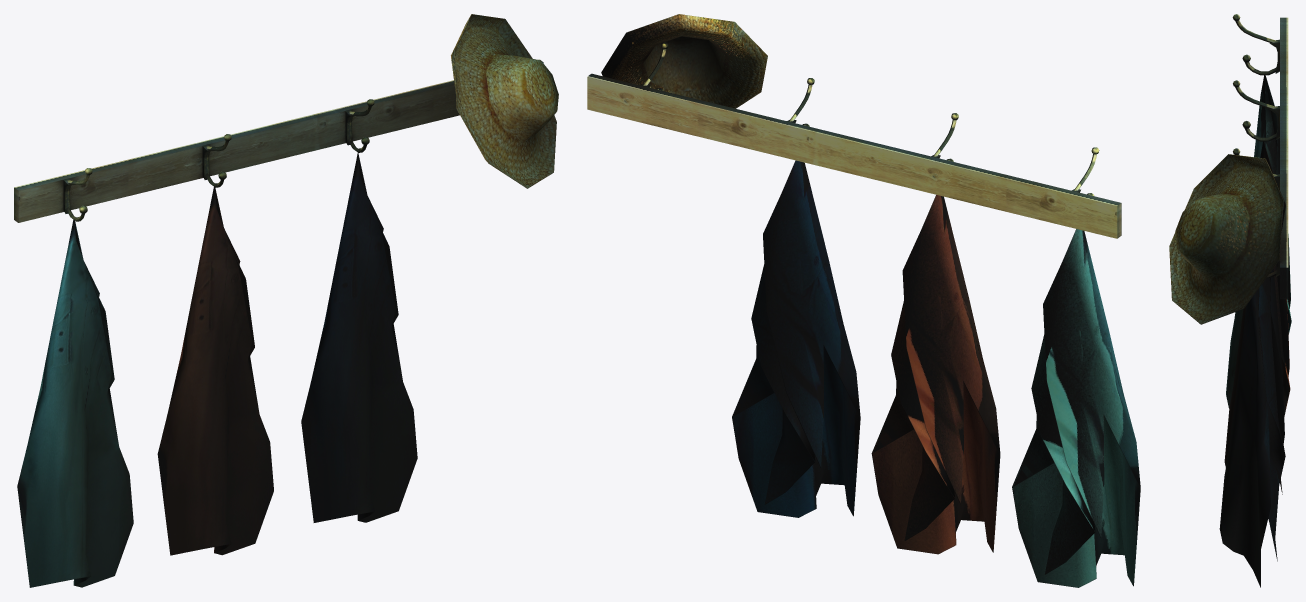
The model's file is roupas.fbx.
3 views of the same model, side by side, from view 1: azimuth 30°, elevation 25°; view 2: azimuth 150°, elevation 25°; view 3: azimuth 270°, elevation 25° (orthographic). The views are drawn at different scales.
Visible parts, largest first — view 1: roupa1, roupa3, roupa2, cab, chapeu; view 2: roupa1, roupa2, roupa3, cab, chapeu; view 3: chapeu, roupa3, cab, roupa1, roupa2.
Part boxes in pixels (x1,y1,x2,y2): roupa1: (17, 219, 133, 587); roupa3: (301, 153, 417, 522); roupa2: (157, 187, 273, 555); cab: (14, 59, 543, 222); chapeu: (451, 14, 558, 188); roupa1: (1012, 229, 1140, 587); roupa2: (871, 195, 1000, 554); roupa3: (732, 160, 860, 517); cab: (587, 42, 1121, 238); chapeu: (601, 14, 767, 108); chapeu: (1169, 154, 1285, 324); roupa3: (1219, 268, 1285, 587); cab: (1232, 14, 1288, 299); roupa1: (1226, 75, 1291, 408); roupa2: (1224, 141, 1290, 494).
Bounding box in the file's own units: 152 × 129 × 30.88.
